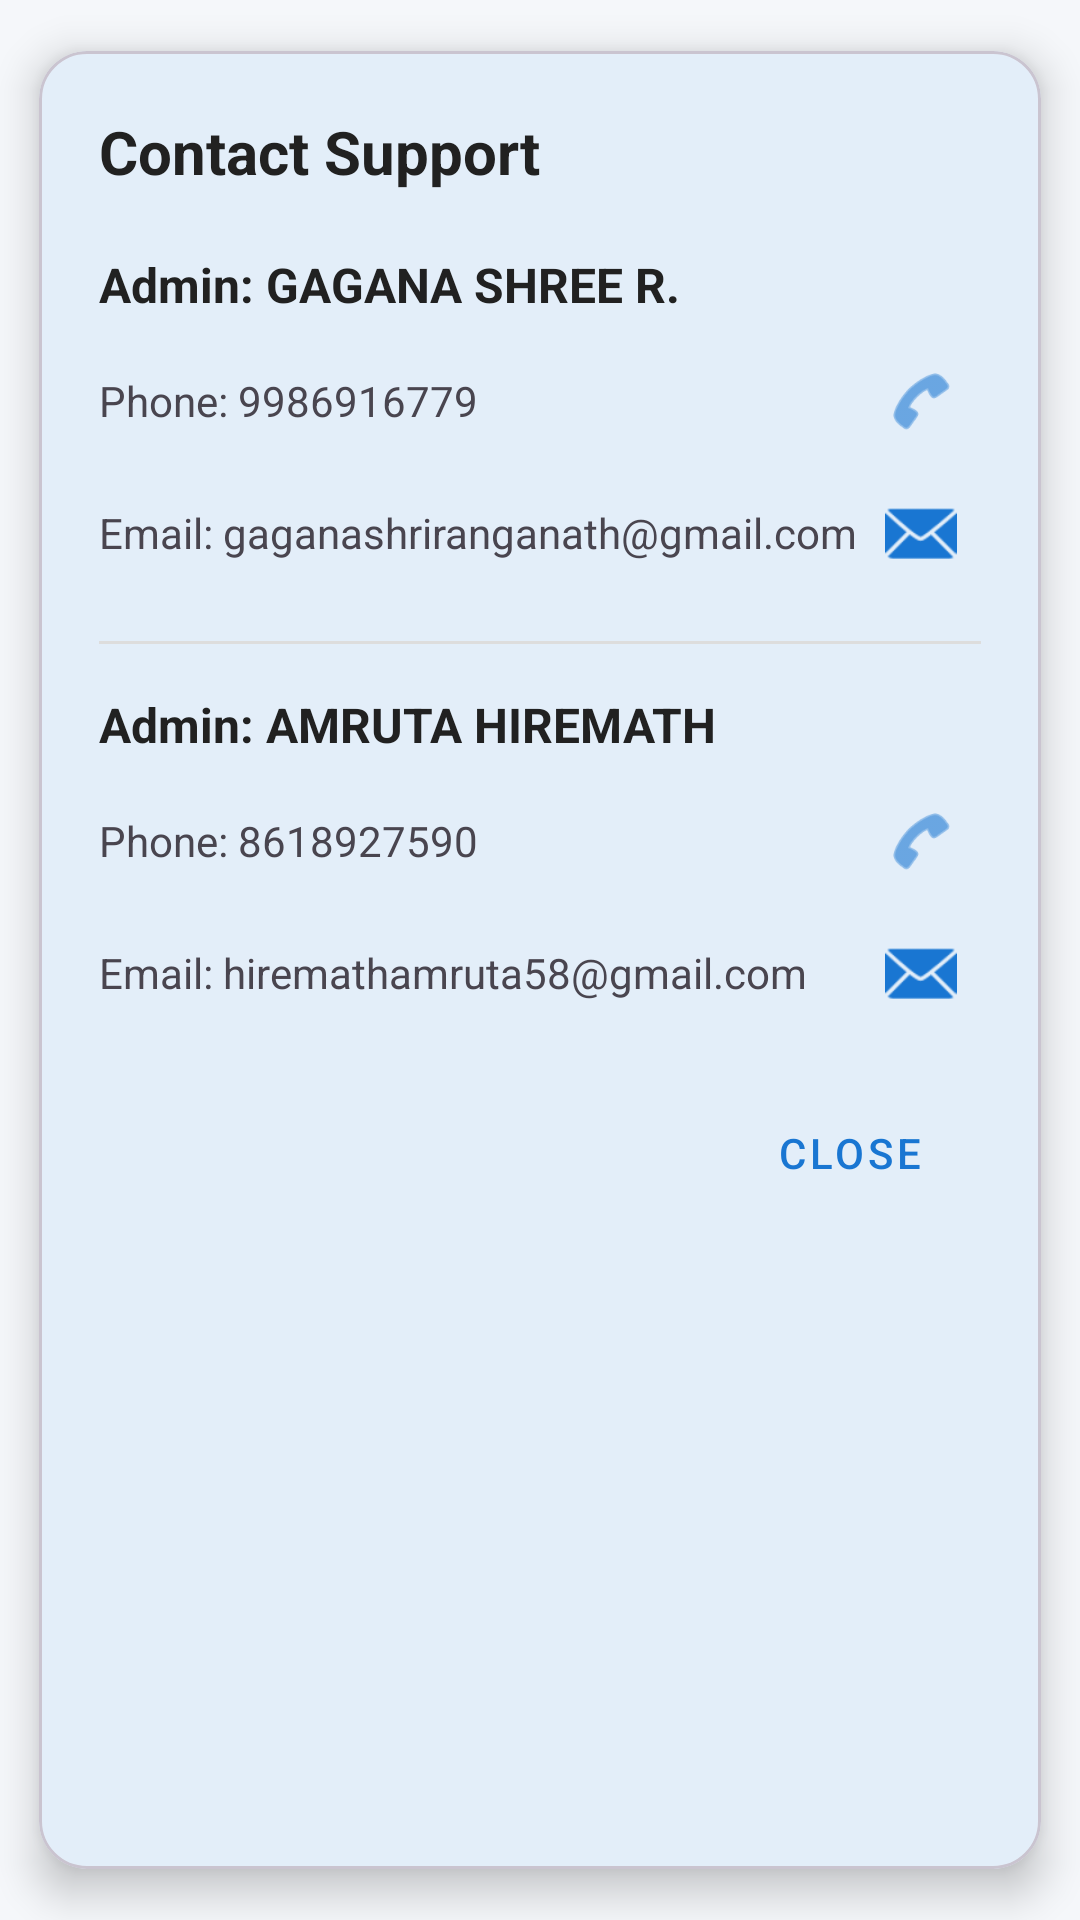

Screen size 1080*1920. Icon name, then its center in pixels as point (x, y):
call: point (921, 401), point (921, 841)
